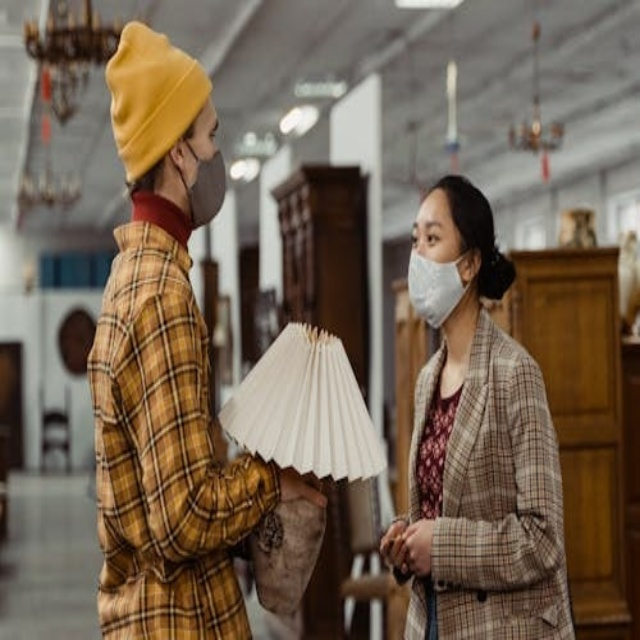Mascara: (407, 247, 475, 330), (183, 145, 228, 229)
Sin_gafas: (404, 213, 451, 252), (196, 115, 227, 152)
Sin_guantes: (383, 517, 434, 581), (277, 466, 329, 508)
